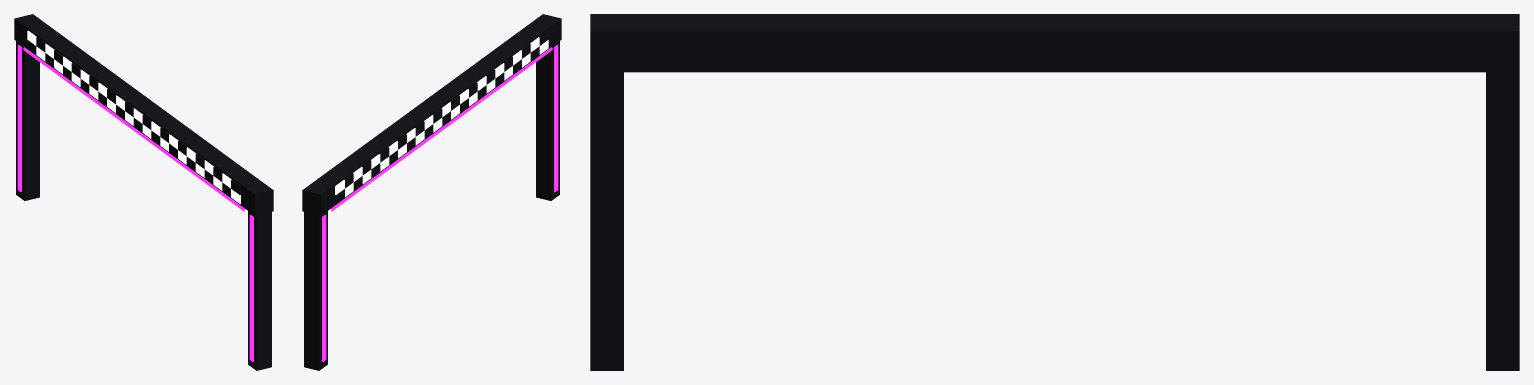
Rendered from SM_Track_StartGantry.fbx.
3 views of the same model, side by side, from view 1: azimuth 30°, elevation 25°; view 2: azimuth 150°, elevation 25°; view 3: azimuth 270°, elevation 25° (orthographic). The views are drawn at different scales.
Visible parts, largest first — view 1: SM_Track_StartGantry; view 2: SM_Track_StartGantry; view 3: SM_Track_StartGantry.
Part boxes in pixels (left/top/right/bottom): SM_Track_StartGantry: left=14, top=14, right=273, bottom=370; SM_Track_StartGantry: left=302, top=14, right=561, bottom=370; SM_Track_StartGantry: left=590, top=14, right=1519, bottom=370.
Bounding box in the file's own units: 117 × 1000 × 2470.
